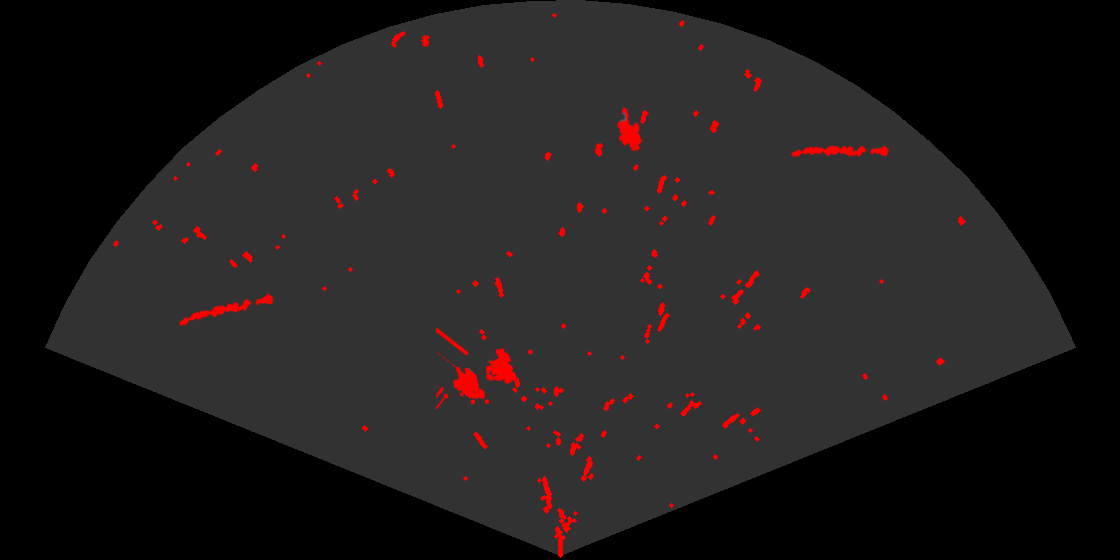AUV: (616, 106, 644, 154)
cage: (436, 326, 518, 411)
chain: (177, 292, 276, 327), (789, 144, 889, 158)
